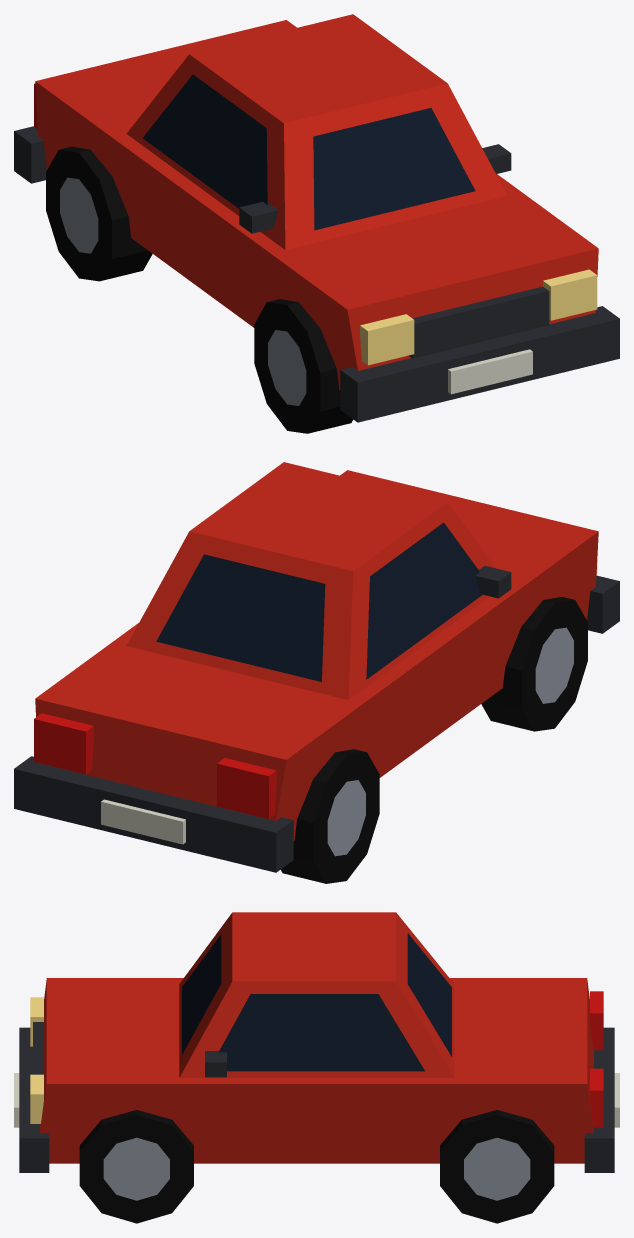
Rendered from coche_lowpoly.obj.
The picture shows the model from 3 angles, top to bottom: view 1: azimuth 30°, elevation 25°; view 2: azimuth 150°, elevation 25°; view 3: azimuth 270°, elevation 25°; orthographic projection. The views are drawn at different scales.
Visible parts, largest first — view 1: coche_lowpoly; view 2: coche_lowpoly; view 3: coche_lowpoly.
Boxes of the visible parts, x1,y1,x2,y2 form: coche_lowpoly: [14, 14, 619, 433]; coche_lowpoly: [14, 462, 619, 883]; coche_lowpoly: [14, 912, 619, 1223].
Size of the model in its own units: 1.96 by 1.78 by 4.44.
